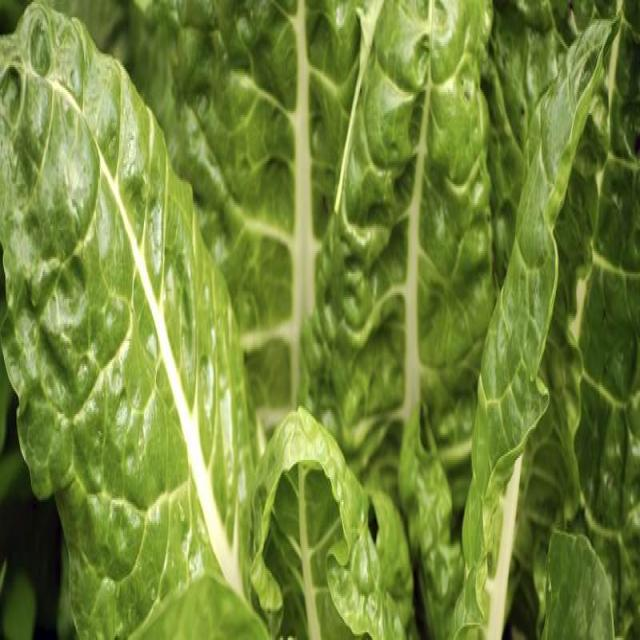spinach: (0, 19, 249, 639), (333, 0, 481, 432)
